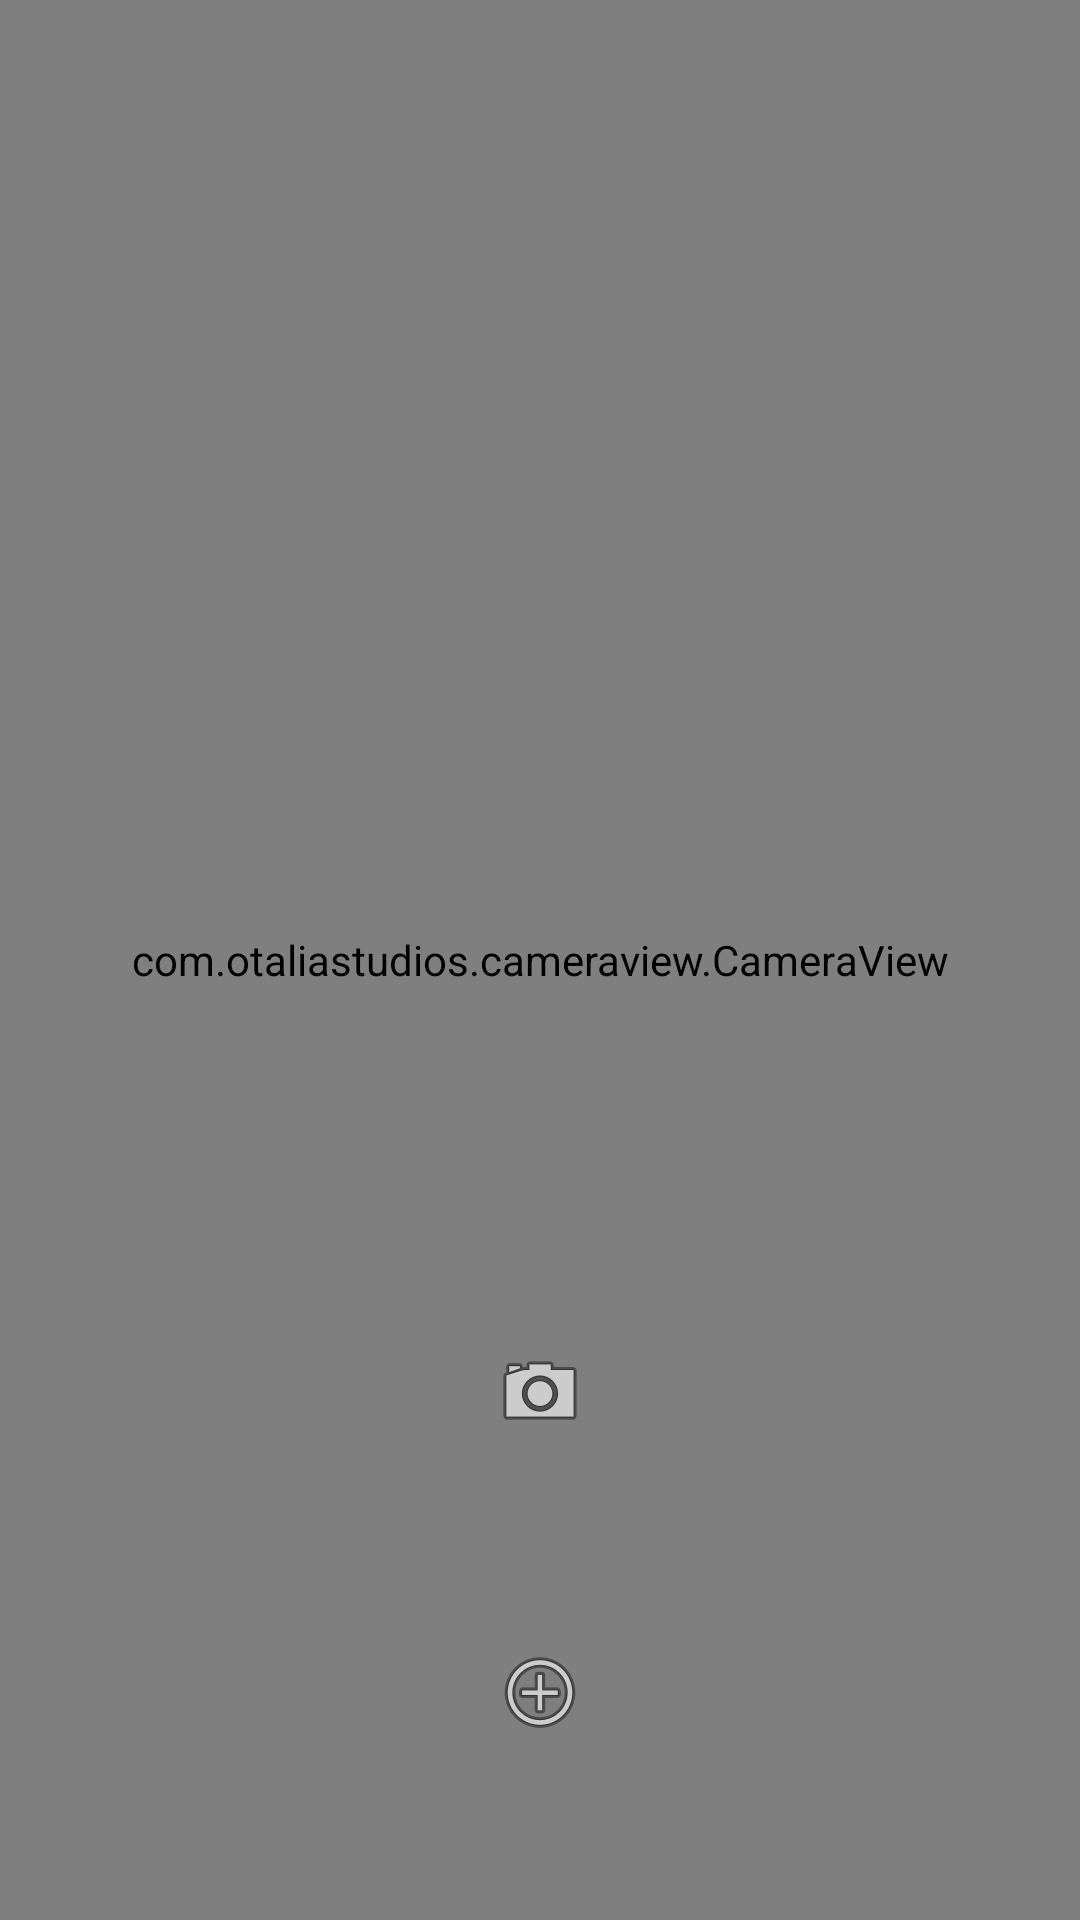

Screen size 1080×1920. Icon name, then its center in pixels as [x,y]:
Capture: [540,1390]
